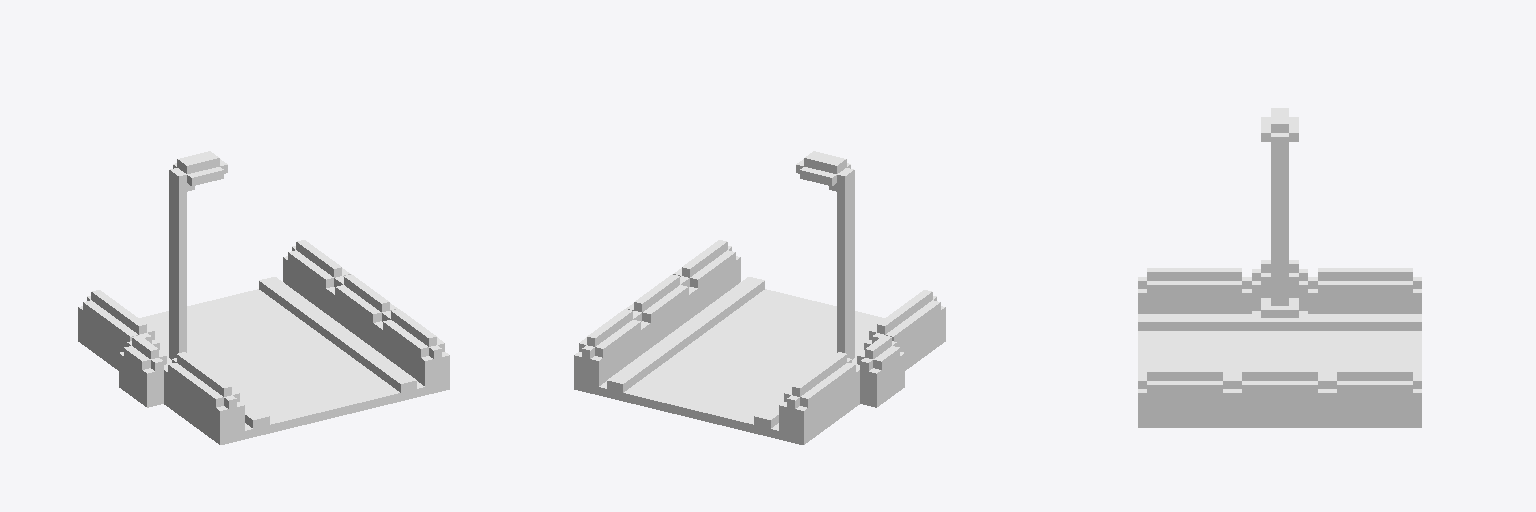
File: chem1.obj
3 renders of one model, left to right at view 1: azimuth 30°, elevation 25°; view 2: azimuth 150°, elevation 25°; view 3: azimuth 270°, elevation 25°, orthographic.
Parts seen in each view (by area): view 1: object 1; view 2: object 1; view 3: object 1.
Boxes of the visible parts, box(x1,y1,x2,y2) form: object 1: box(78, 151, 449, 444); object 1: box(574, 151, 945, 444); object 1: box(1138, 108, 1421, 427).
Bounding box in the file's own units: 3 × 2.6 × 3.